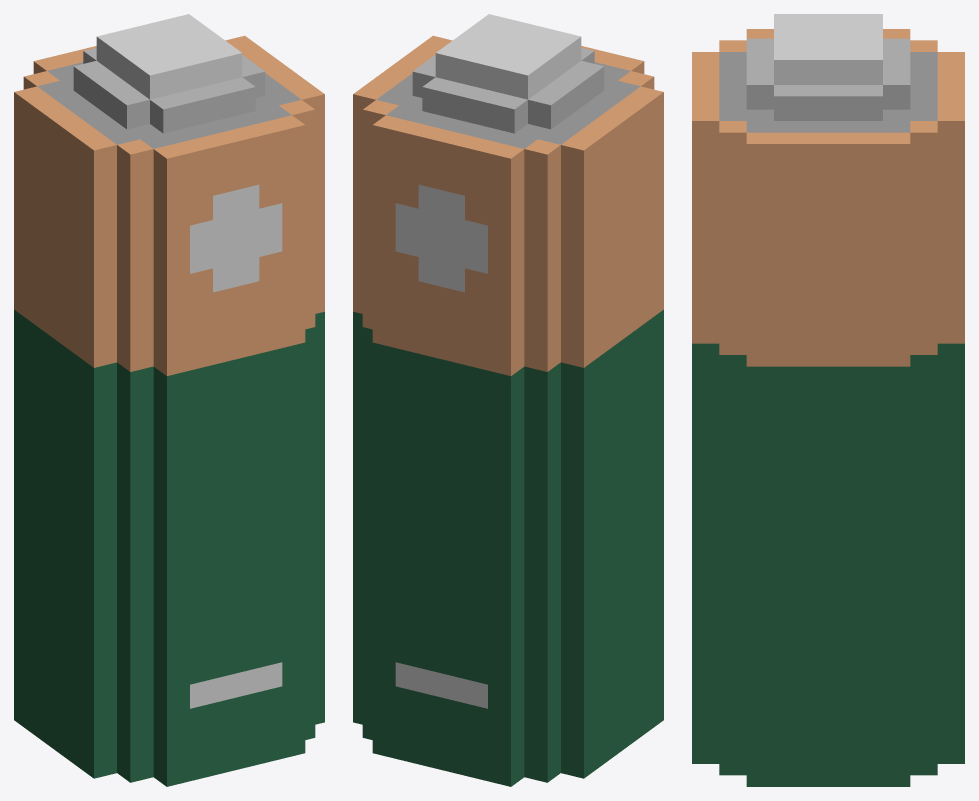
The model's file is Battery(v1.2.0).obj.
The picture shows the model from 3 angles, left to right: view 1: azimuth 30°, elevation 25°; view 2: azimuth 150°, elevation 25°; view 3: azimuth 270°, elevation 25°; orthographic projection. The views are drawn at different scales.
Bounding box in the file's own units: 1 × 2.8 × 1.
1 material, 1 textured.
